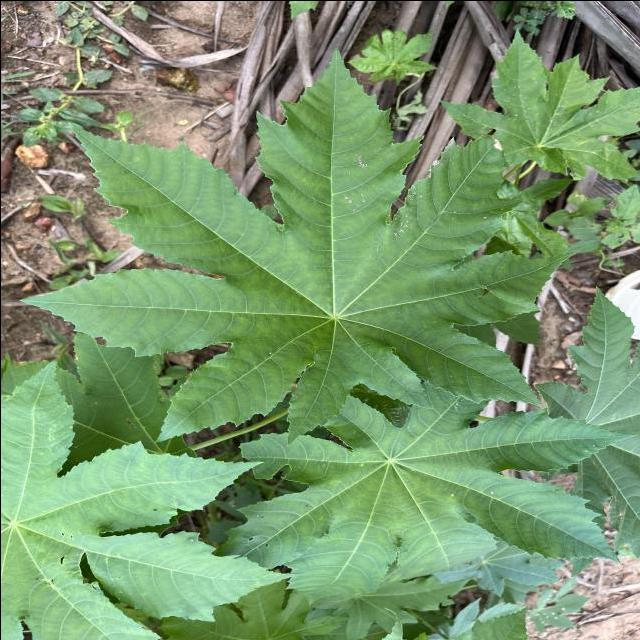Ricinus communis linn: (12, 42, 583, 446), (213, 351, 638, 618)
